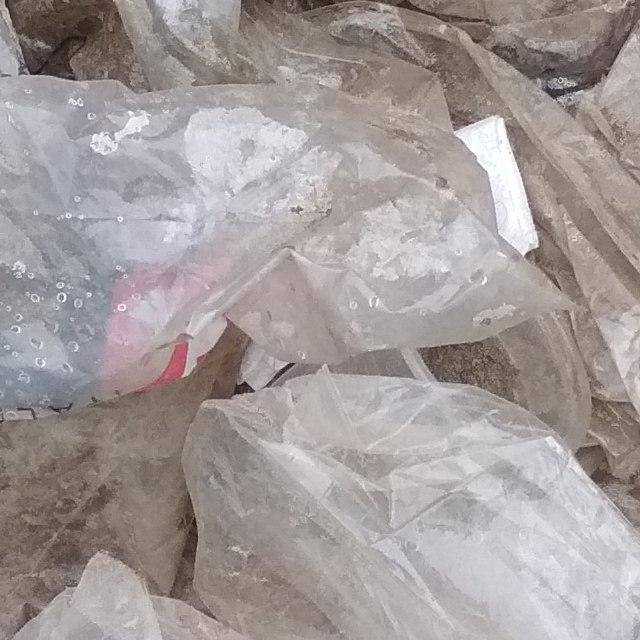plastic: (0, 0, 640, 401)
